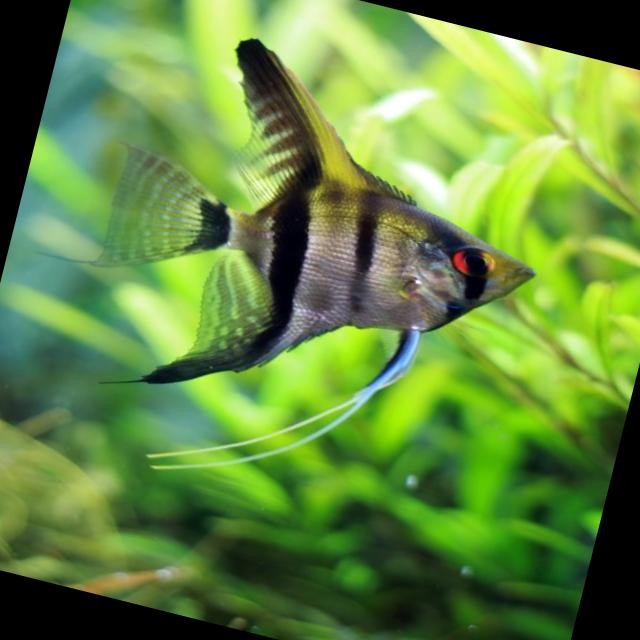AngelFish: (52, 12, 577, 535)
